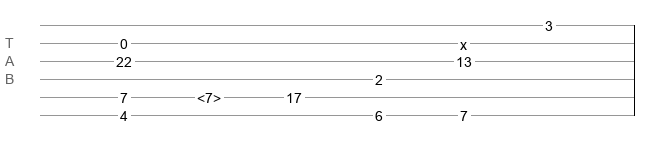0: (120, 36, 128, 46)
13: (456, 54, 472, 64)
17: (286, 90, 302, 100)
2: (375, 72, 383, 82)
22: (116, 54, 132, 64)
3: (545, 18, 553, 28)
4: (120, 108, 128, 118)
6: (375, 108, 383, 118)
7: (120, 90, 128, 100), (460, 108, 468, 118)
harmonic: (197, 90, 221, 100)
x: (460, 37, 467, 45)
